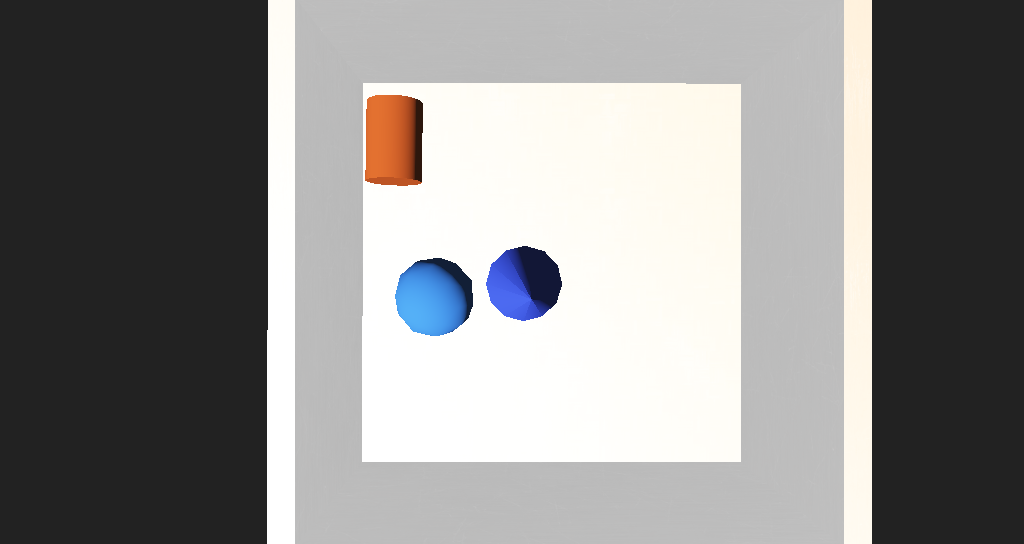cone: (350, 169, 404, 222)
cylinder: (451, 255, 519, 308)
sphere: (377, 258, 445, 305)
